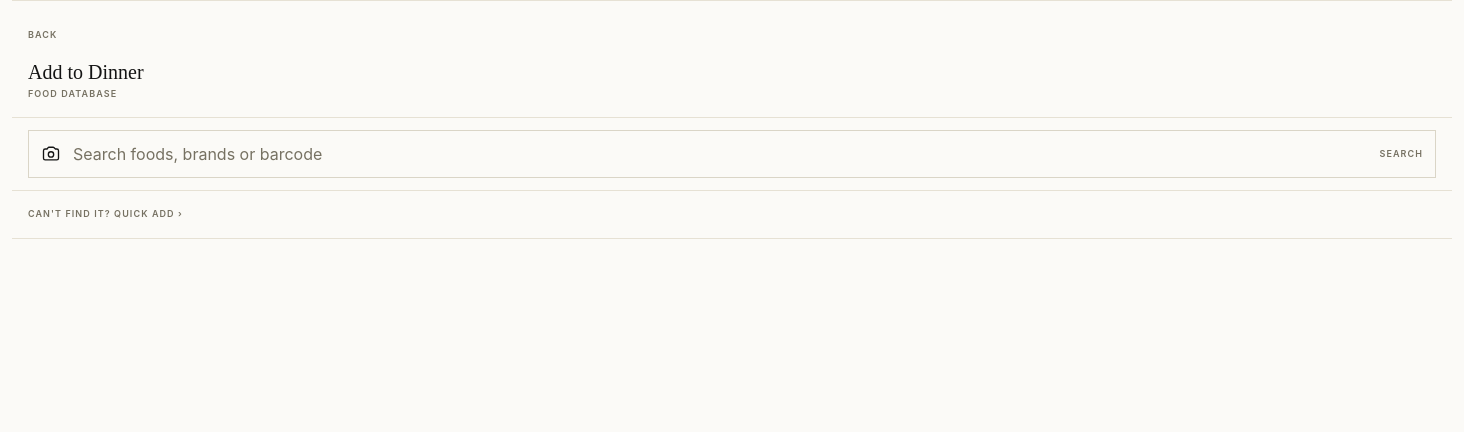
FoodPicker › filters local foods and searches OFF automatically while typing
Type "skyr" into the search field.
click(720, 154); type("skyr")  # box [73,142,1368,166]
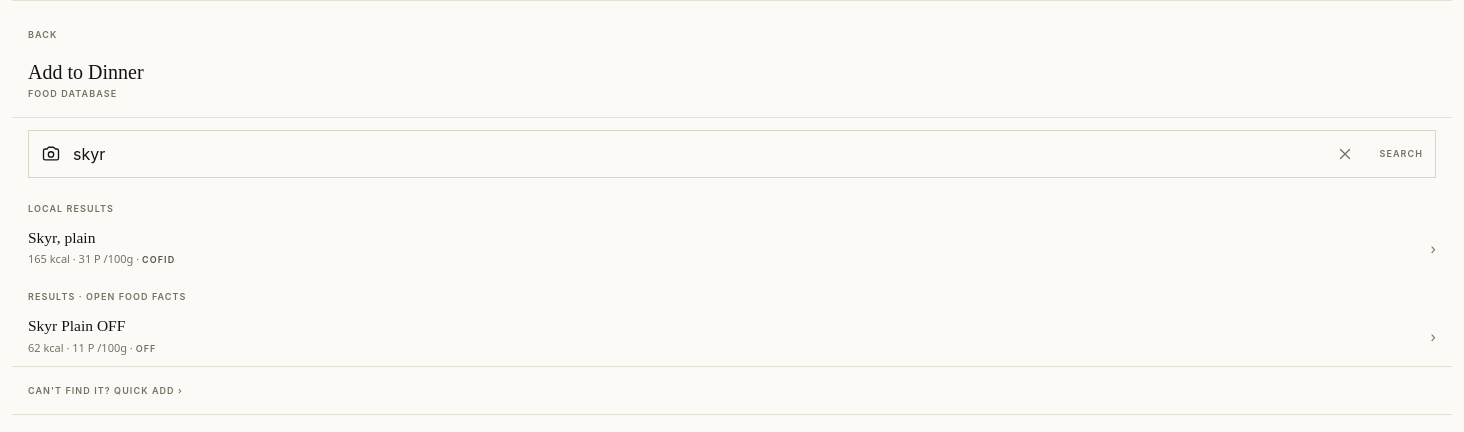
Now the text "Skyr, plain" is shown, box [28,229,95,246]
Now the text "Skyr Plain OFF" is shown, box [28,317,125,334]
